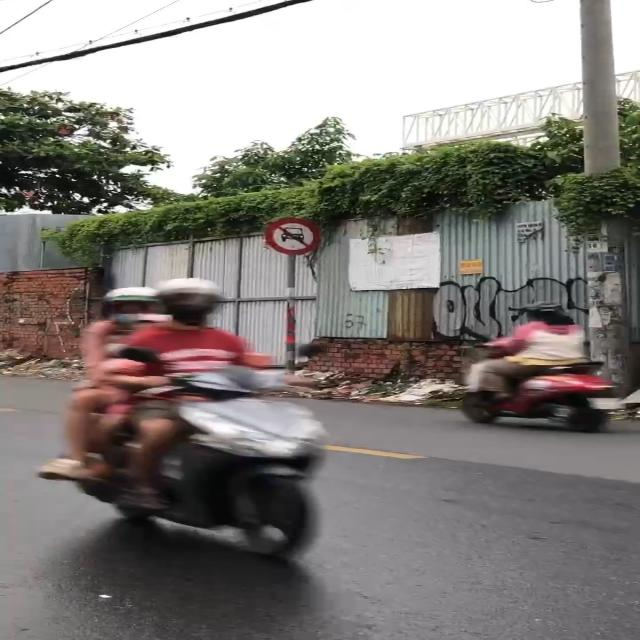Bien bao cam xe oto: (261, 215, 327, 258)
